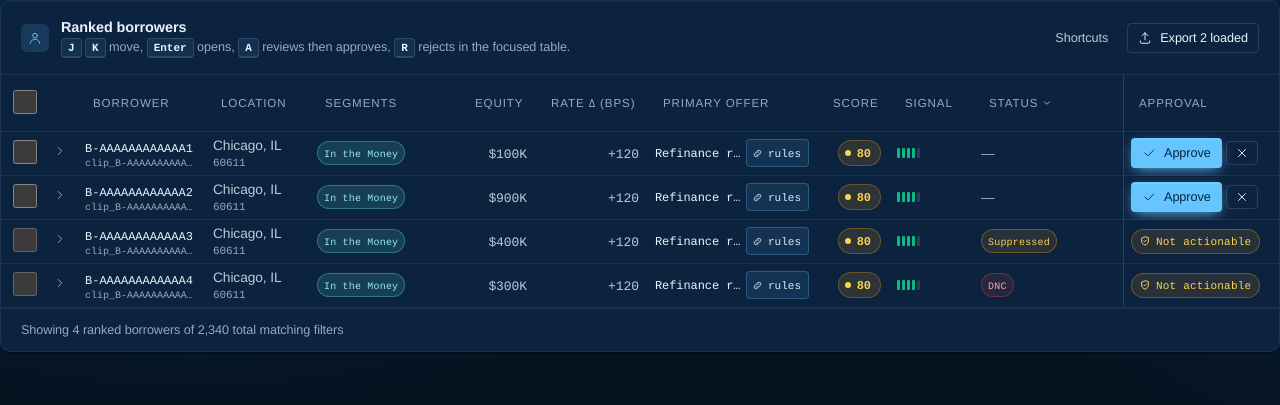
Test case: LeadTable CSV export › honest scope (D-approval-flow-b) › says only the loaded leads were exported and links to the campaign handoff
Click the button with test id "lead-export": x=1193, y=38 [1127,23,1259,53]
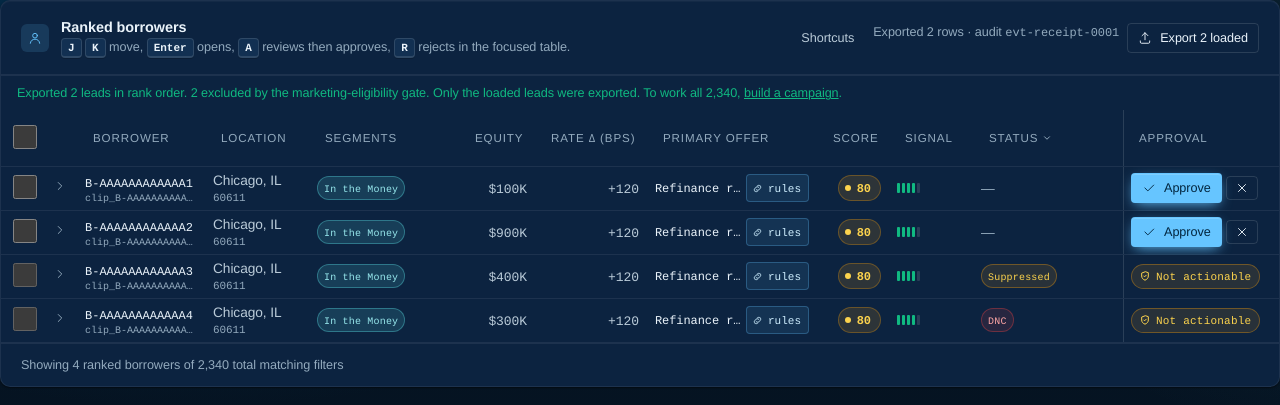
Result: the message with test id "lead-export-notice" is shown at [1,75,1279,110]
Result: the link "build a campaign" is shown at [744,85,839,101]
